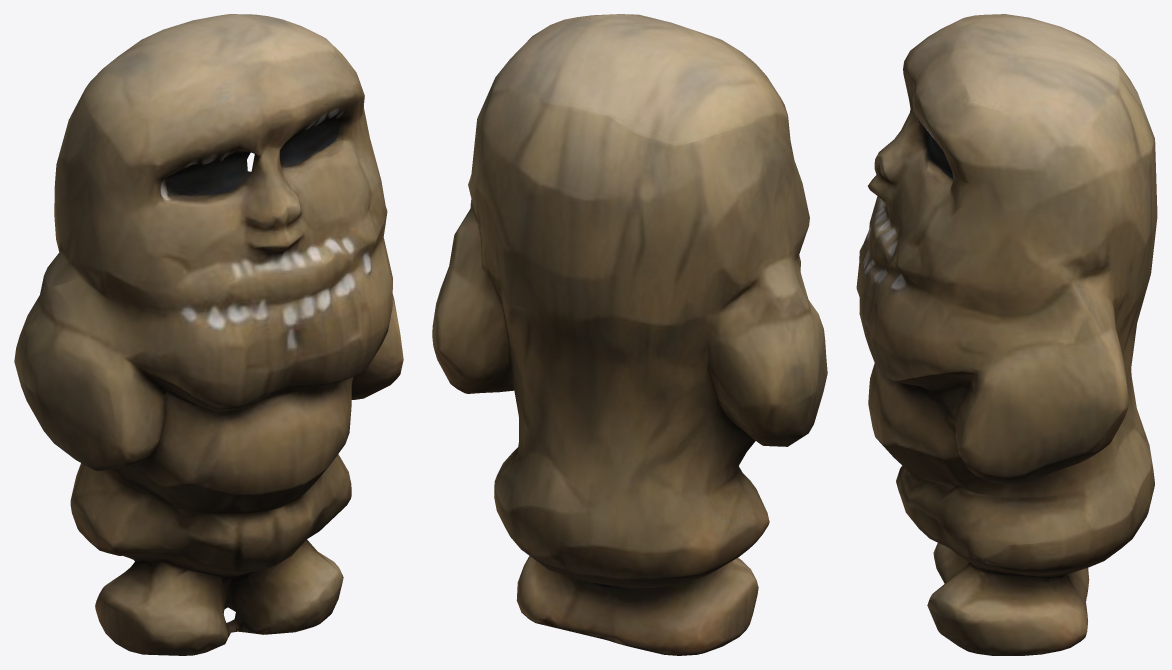
File: mascot_head.glb
3 renders of one model, left to right at view 1: azimuth 30°, elevation 25°; view 2: azimuth 150°, elevation 25°; view 3: azimuth 270°, elevation 25°, orthographic.
Visible parts, largest first — view 1: mascot_head; view 2: mascot_head; view 3: mascot_head.
Part boxes in pixels (x1,y1,x2,y2): mascot_head: [14, 14, 403, 655]; mascot_head: [432, 14, 827, 655]; mascot_head: [856, 14, 1157, 655].
Size of the model in its own units: 0.6283 by 0.9992 by 0.4726.
1 material, 1 textured.
